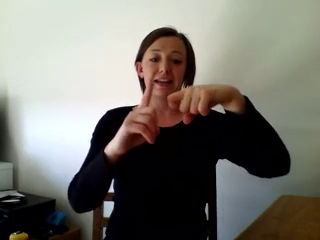K: (112, 69, 231, 154)
